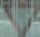Give way: (2, 1, 39, 35)
